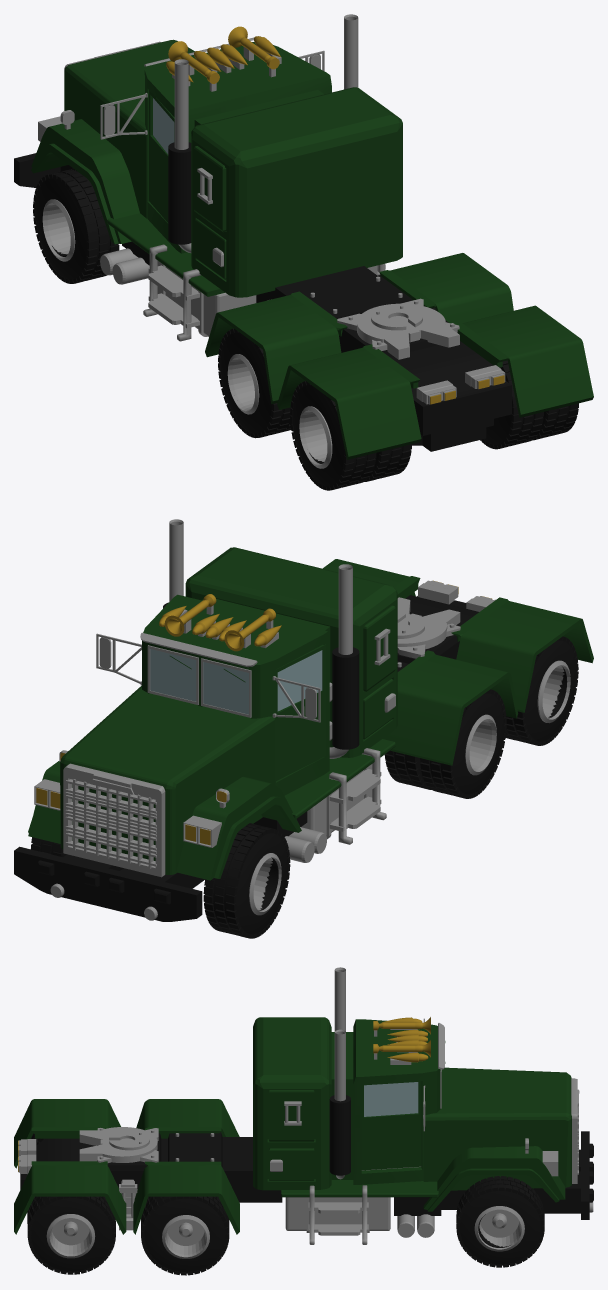
The model's file is camionprova.FBX.
The picture shows the model from 3 angles, top to bottom: view 1: azimuth 30°, elevation 25°; view 2: azimuth 150°, elevation 25°; view 3: azimuth 270°, elevation 25°; orthographic projection. The views are drawn at different scales.
Visible parts, largest first — view 1: Box35, Box61, Box709, Box707, frontpart, Box04, Box708, Box706, Box28, Tube09, Box1135, Circle02 (+30 smaller); view 2: Box04, Box35, frontpart, Box708, buffer, Box709, Box28, Box05, Box687, Tube09, Box1135, Cylinder28 (+34 smaller); view 3: Box04, Box35, frontpart, Box61, Box707, Box706, Box29, Box694, Box709, Tube10, Tube11, Tube14 (+23 smaller).
Boxes of the visible parts, x1,y1,x2,y2 form: Box35: [191, 87, 402, 297]; Box61: [256, 266, 511, 435]; Box709: [277, 344, 421, 459]; Box707: [455, 305, 593, 417]; frontpart: [144, 42, 331, 253]; Box04: [64, 39, 194, 218]; Box708: [205, 291, 347, 404]; Box706: [379, 253, 513, 323]; Box28: [31, 119, 139, 244]; Tube09: [35, 171, 117, 279]; Box1135: [33, 168, 119, 283]; Circle02: [357, 303, 459, 359]; Box04: [60, 685, 275, 874]; Box35: [185, 547, 397, 757]; frontpart: [142, 594, 330, 795]; Box708: [383, 650, 518, 765]; buffer: [14, 811, 307, 921]; Box709: [451, 597, 593, 712]; Box28: [176, 777, 301, 880]; Box05: [63, 763, 165, 877]; Box687: [276, 644, 325, 780]; Tube09: [205, 826, 288, 934]; Box1135: [203, 823, 290, 938]; Cylinder28: [332, 647, 359, 749]; Box04: [423, 1067, 571, 1190]; Box35: [253, 1017, 331, 1190]; frontpart: [331, 1019, 440, 1184]; Box61: [20, 1132, 282, 1202]; Box707: [14, 1161, 126, 1234]; Box706: [133, 1161, 239, 1234]; Box29: [423, 1146, 565, 1211]; Box694: [360, 1081, 421, 1170]; Box709: [14, 1099, 120, 1168]; Tube10: [458, 1177, 543, 1265]; Tube11: [143, 1196, 227, 1273]; Tube14: [29, 1196, 113, 1272].
Bounding box in the file's own units: 128 × 147 × 332.
